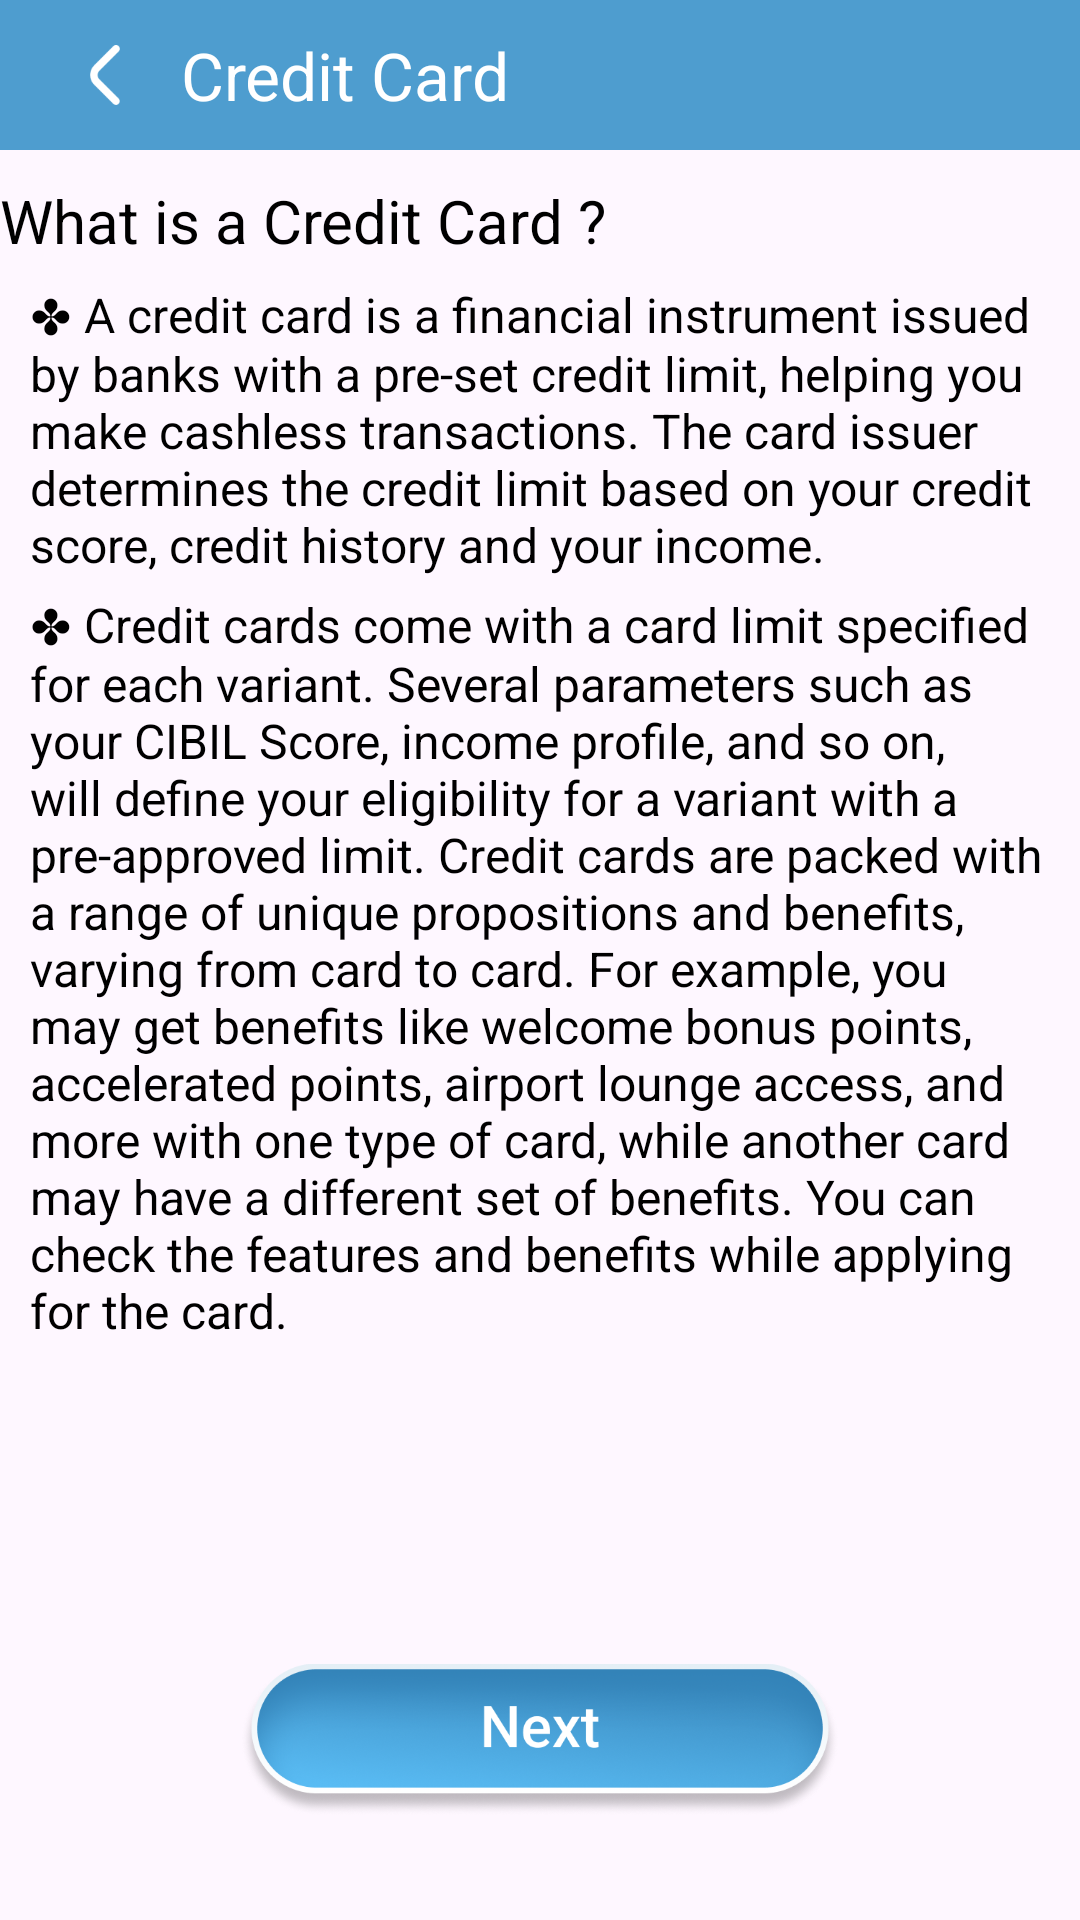

Screen size 1080*1920. Icon name, then its center in pixels as (x,y):
back: (105,75)
